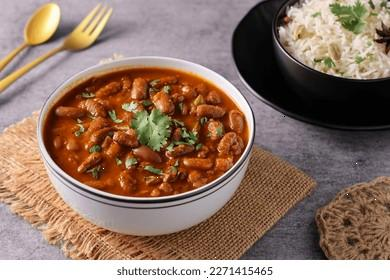rajma: (36, 68, 236, 194)
rice: (284, 6, 390, 81)
